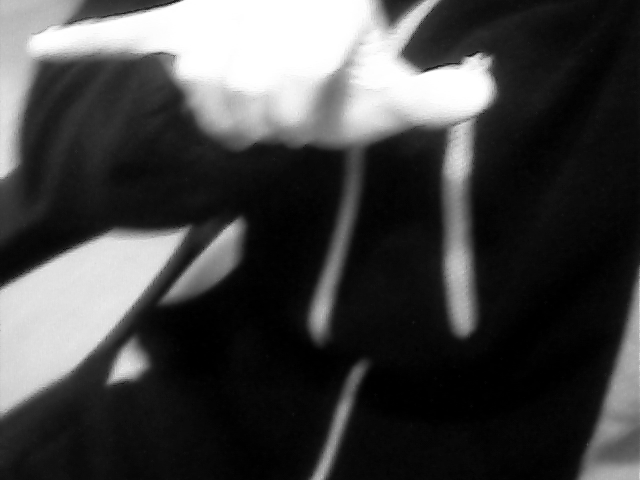aloha: (20, 1, 501, 155)
